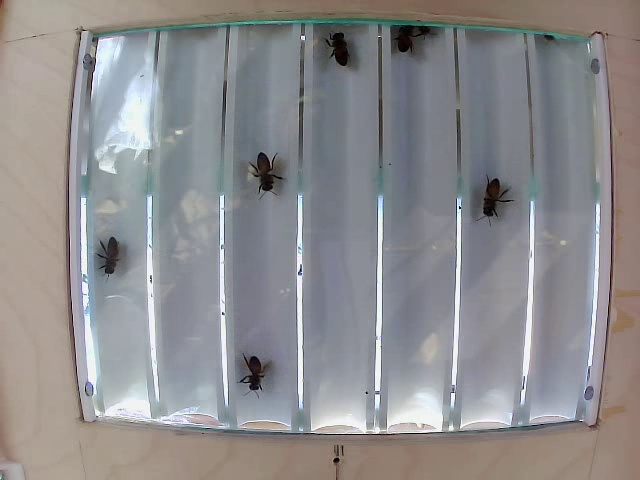bee: (89, 225, 143, 291), (397, 14, 437, 68), (327, 31, 364, 88), (483, 172, 515, 230), (249, 154, 284, 203), (232, 353, 271, 393)
